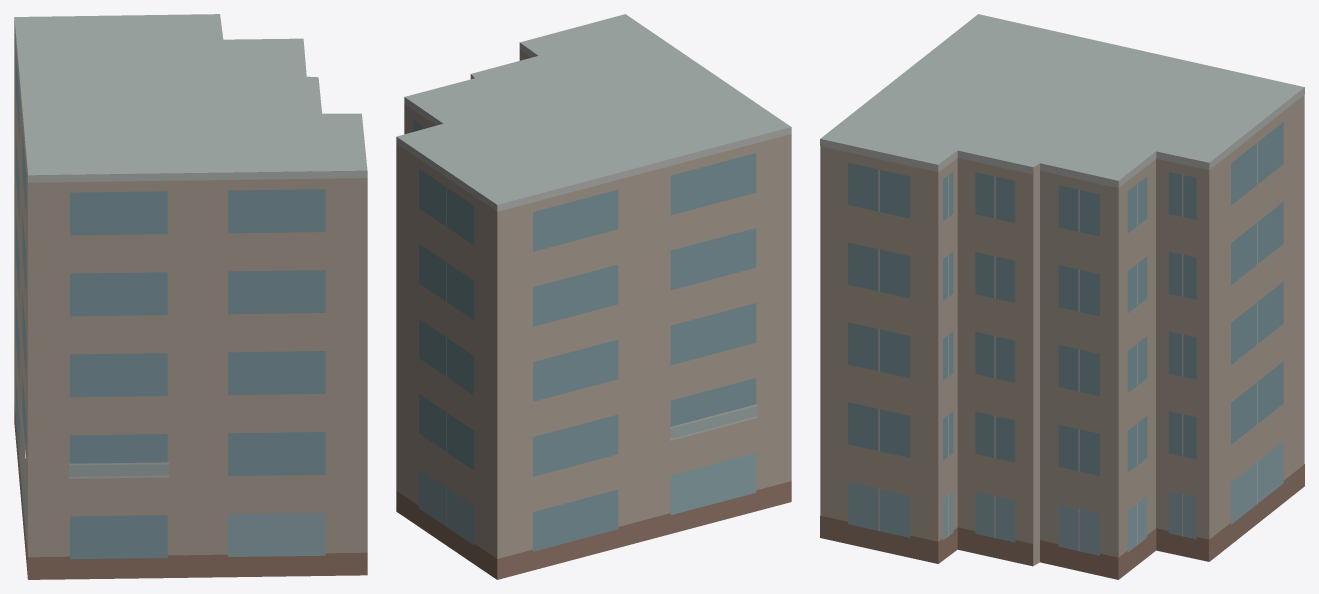
Rendered from survey-upis-32992597.glb.
The picture shows the model from 3 angles, left to right: view 1: azimuth 30°, elevation 25°; view 2: azimuth 150°, elevation 25°; view 3: azimuth 270°, elevation 25°; orthographic projection. The views are drawn at different scales.
Visible parts, largest first — view 1: survey-upis-32992597.tmp; view 2: survey-upis-32992597.tmp; view 3: survey-upis-32992597.tmp.
Part boxes in pixels (x1=…): survey-upis-32992597.tmp: x1=14, y1=14, x2=367, y2=579; survey-upis-32992597.tmp: x1=396, y1=14, x2=791, y2=579; survey-upis-32992597.tmp: x1=820, y1=14, x2=1304, y2=579.
Size of the model in its own units: 11.93 by 13.3 by 14.65.
